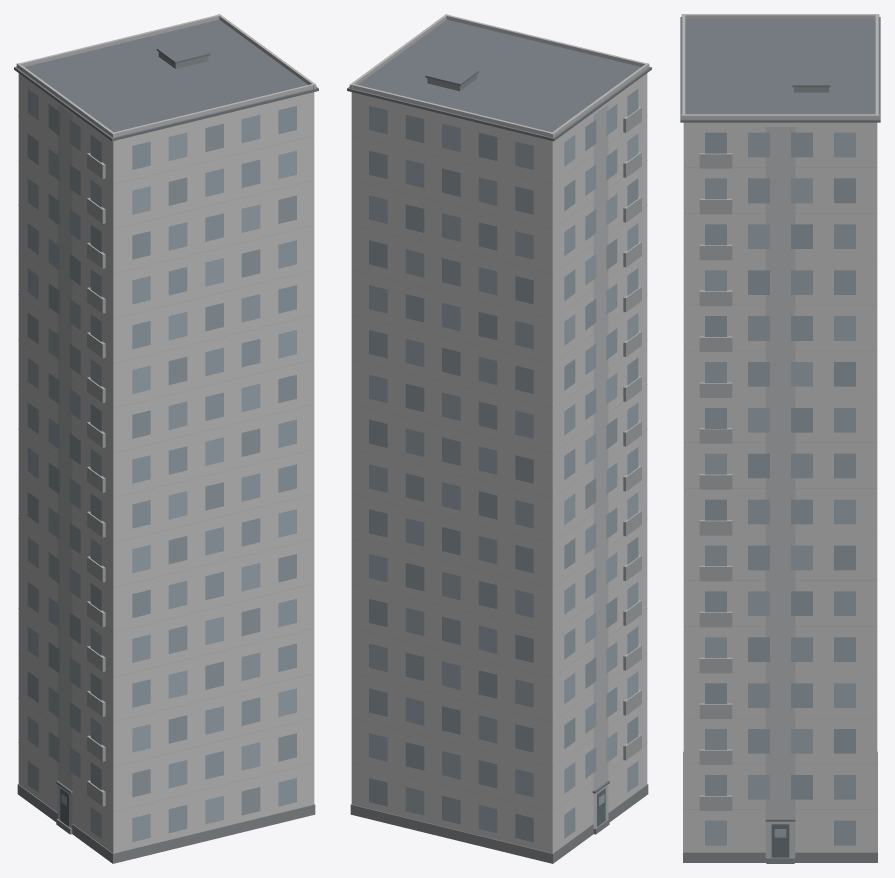
File: tower_3.glb
3 renders of one model, left to right at view 1: azimuth 30°, elevation 25°; view 2: azimuth 150°, elevation 25°; view 3: azimuth 270°, elevation 25°, orthographic. The views are drawn at different scales.
Parts seen in each view (by area): view 1: tower_3; view 2: tower_3; view 3: tower_3.
Boxes of the visible parts, bbox=[...] form: tower_3: bbox=[14, 14, 318, 863]; tower_3: bbox=[347, 14, 651, 863]; tower_3: bbox=[680, 14, 880, 863].
Bounding box in the file's own units: 13.9 × 47.17 × 11.4.
